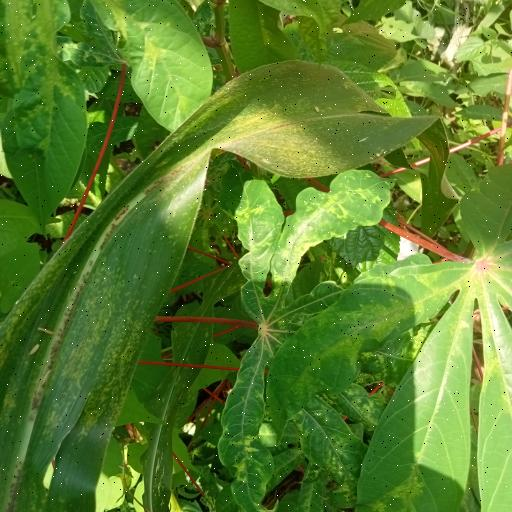Corn_Brown_Spots: (4, 64, 437, 494)
